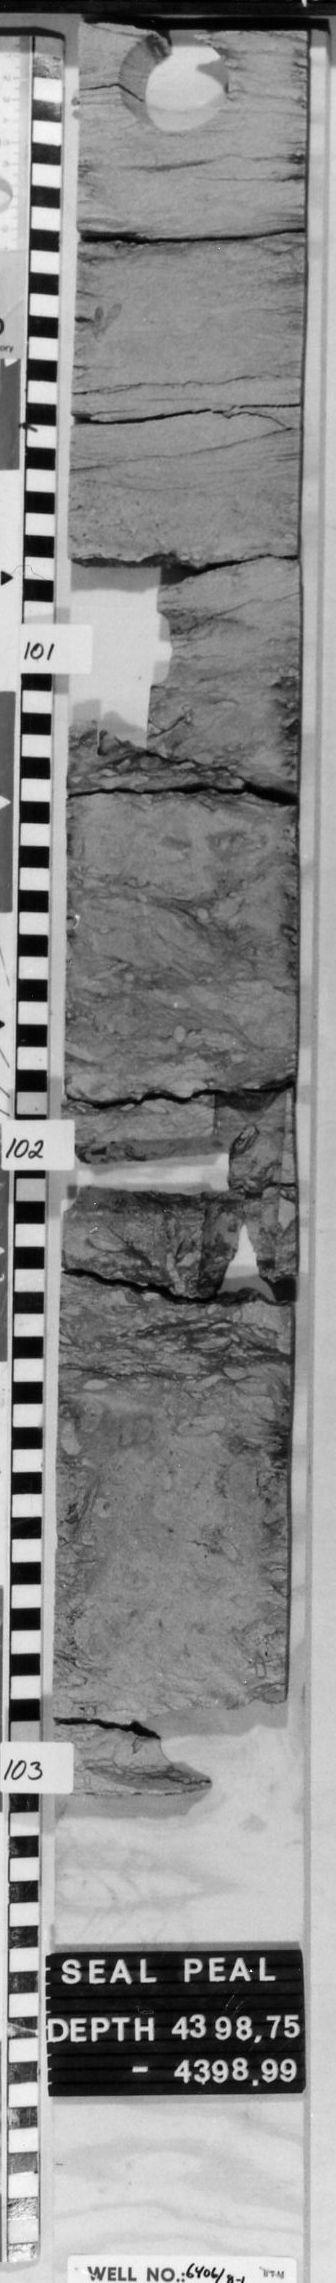hplug: (64, 1130, 244, 1211), (156, 604, 297, 699), (80, 1709, 202, 1791)
scal: (111, 33, 240, 138)
vplug: (70, 545, 161, 761), (198, 1085, 284, 1302)
